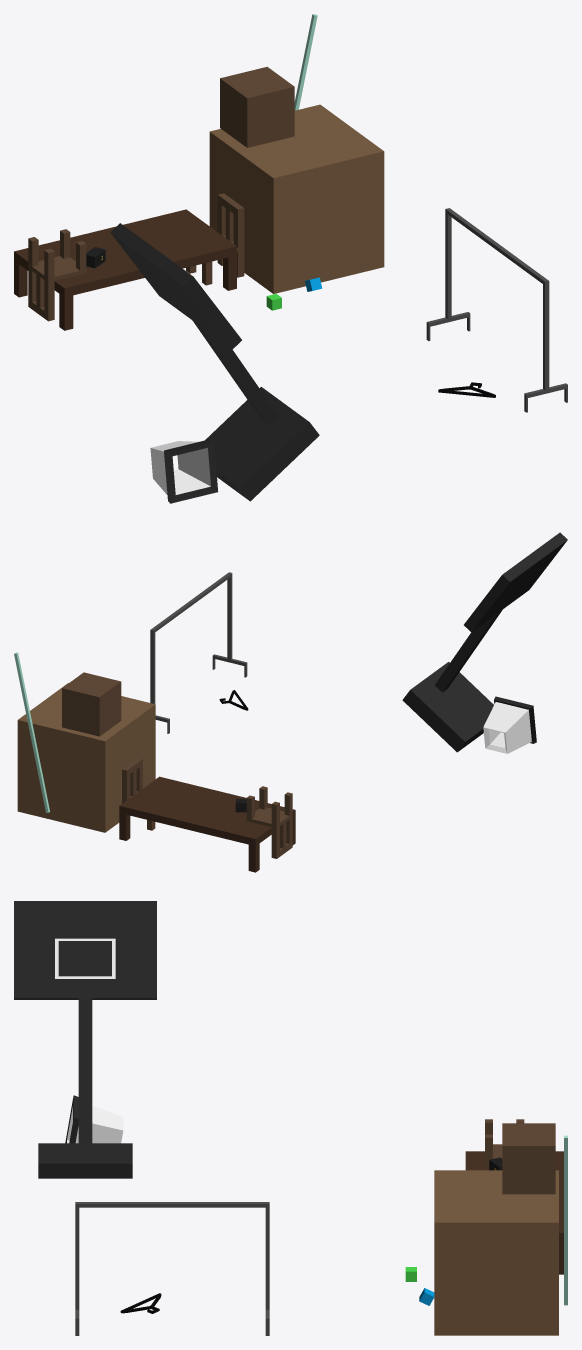
The model's file is Contact Information Room Assets.gltf.
3 renders of one model, top to bottom at view 1: azimuth 30°, elevation 25°; view 2: azimuth 150°, elevation 25°; view 3: azimuth 270°, elevation 25°, orthographic. The views are drawn at different scales.
Visible parts, largest first — view 1: Cube, Basketball Hoop, Table, Cube.001, Basketball Hoop.001, Clothing Rail, Chair.001, Chair; view 2: Cube, Basketball Hoop, Table, Cube.001, Basketball Hoop.001, Chair.001, Clothing Rail, Cube.002, Chair; view 3: Basketball Hoop, Cube, Cube.001, Clothing Rail, Basketball Hoop.001, Table, Cube.002, Chair.001.
Boxes of the visible parts, x1,y1,x2,y2 form: Cube: (209,104,384,293); Basketball Hoop: (110,223,319,501); Table: (14,209,236,330); Cube.001: (220,66,294,147); Basketball Hoop.001: (150,439,218,503); Clothing Rail: (426,208,567,412); Chair.001: (28,229,86,321); Chair: (186,193,244,285); Cube: (17,683,155,832); Basketball Hoop: (402,532,567,752); Table: (119,776,295,872); Cube.001: (62,672,121,736); Basketball Hoop.001: (483,696,536,753); Chair.001: (246,786,292,858); Clothing Rail: (150,572,247,733); Cube.002: (14,652,49,812); Chair: (122,758,155,830); Basketball Hoop: (14,901,156,1178); Cube: (434,1170,558,1335); Cube.001: (502,1123,555,1194); Clothing Rail: (75,1202,269,1335); Basketball Hoop.001: (65,1095,123,1143); Table: (465,1151,563,1274); Cube.002: (564,1135,567,1305); Chair.001: (485,1119,524,1166).
Bounding box in the file's own units: 0.4454 × 0.2568 × 0.5266.
